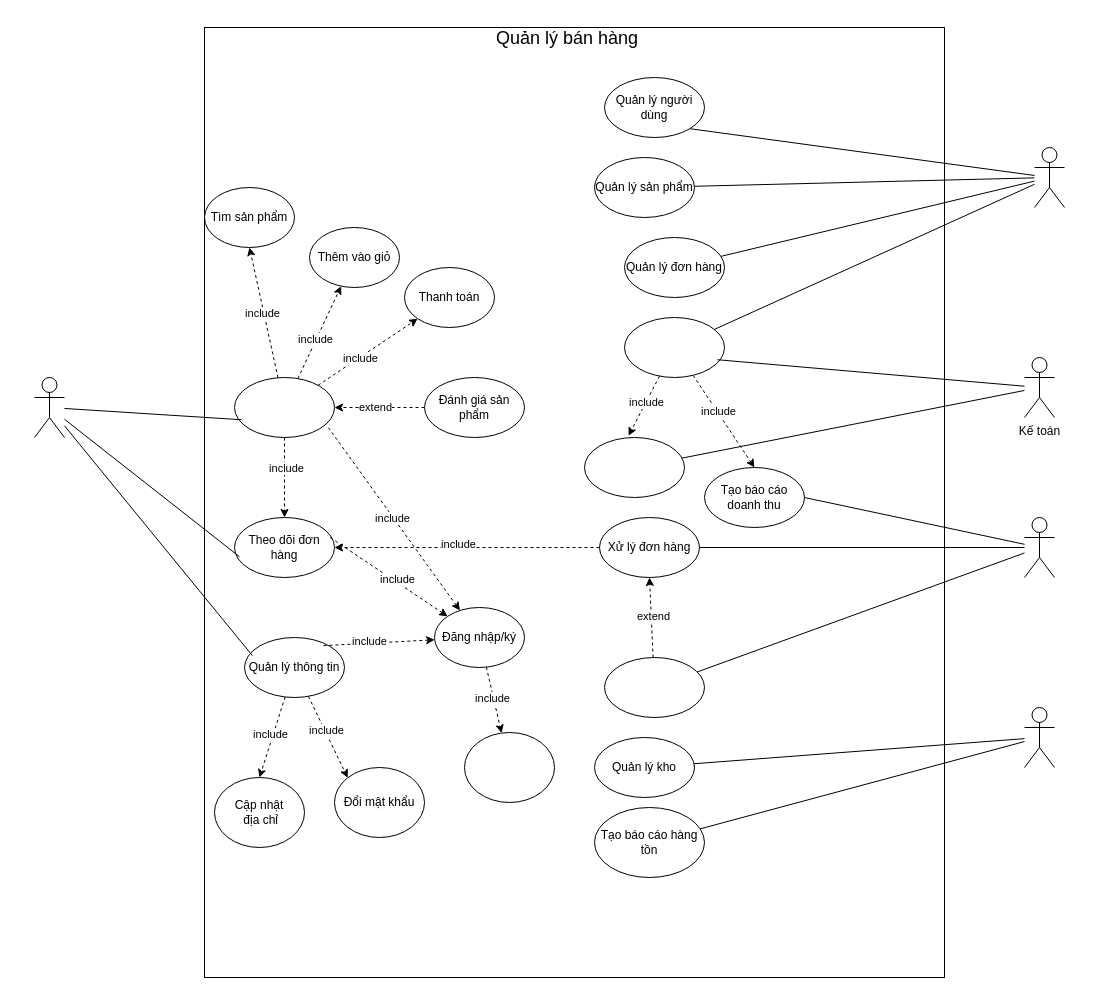
This 1110x995 diagram has some shape labels left out. Each missing label, with the box of its shape:
Admin: (1034, 146, 1064, 208)
Khách hàng: (34, 376, 64, 438)
Mua hàng trực tuyến: (234, 376, 334, 438)
Nhân viên kho: (1024, 706, 1054, 768)
Nhân viến bán hàng: (1024, 516, 1054, 578)
Quên mật khẩu: (464, 732, 554, 802)
Quản lý tài chính: (624, 316, 724, 378)
Tạo báo cáo tài chính: (584, 436, 684, 498)
Xác nhận thanh toán: (604, 656, 704, 718)
